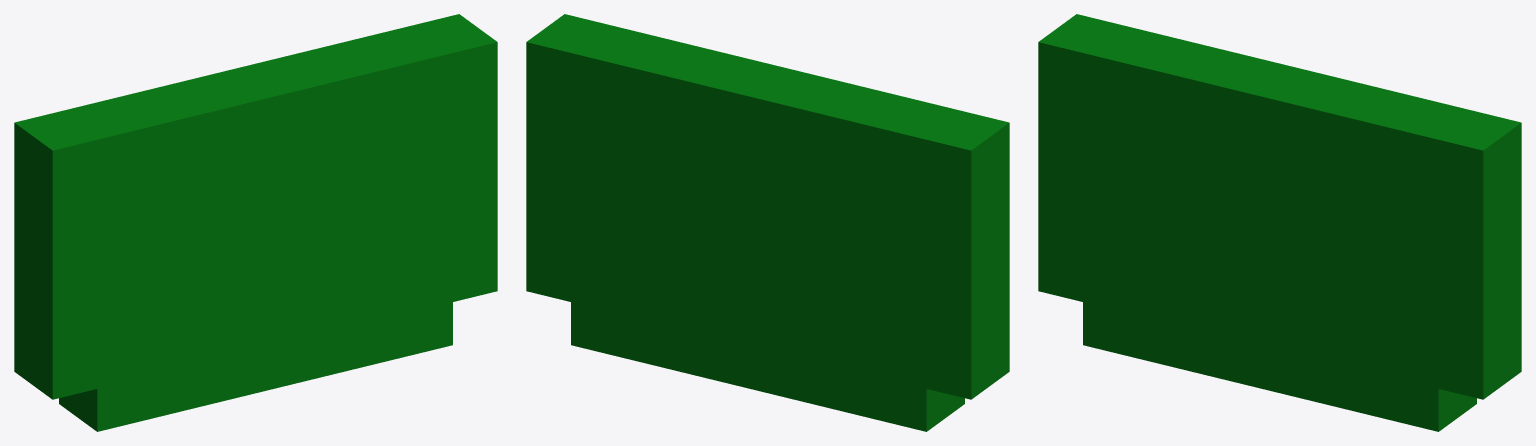
Rendered from laneend.fbx.
3 views of the same model, side by side, from view 1: azimuth 30°, elevation 25°; view 2: azimuth 150°, elevation 25°; view 3: azimuth 330°, elevation 25° (orthographic).
Visible parts, largest first — view 1: killbarrier; view 2: killbarrier; view 3: killbarrier.
Part boxes in pixels (x1=…): killbarrier: x1=14, y1=14, x2=497, y2=431; killbarrier: x1=526, y1=14, x2=1009, y2=431; killbarrier: x1=1038, y1=14, x2=1521, y2=431.
Size of the model in its own units: 14.96 by 9.38 by 2.23.
1 material, 1 textured.
